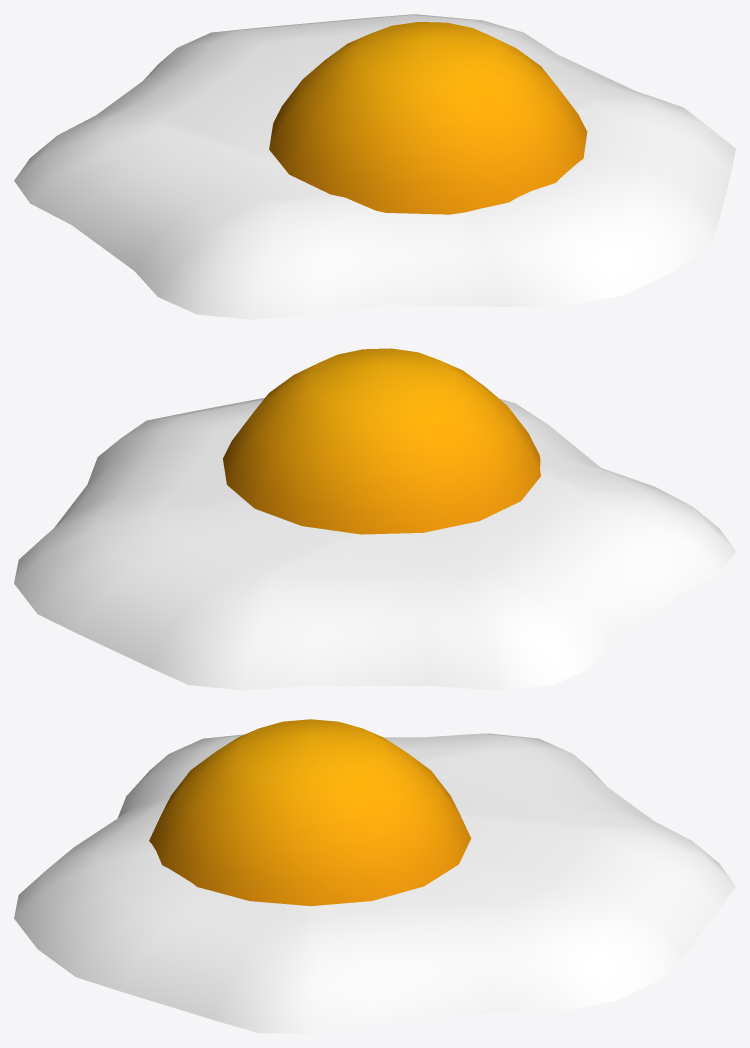
Rendered from Egg_V1_02.fbx.
3 views of the same model, one above another, from view 1: azimuth 30°, elevation 25°; view 2: azimuth 150°, elevation 25°; view 3: azimuth 270°, elevation 25° (orthographic).
Parts seen in each view (by area): view 1: Egg_V1_02; view 2: Egg_V1_02; view 3: Egg_V1_02.
Part boxes in pixels (x1,y1,x2,y2): Egg_V1_02: [14, 14, 735, 319]; Egg_V1_02: [14, 348, 735, 690]; Egg_V1_02: [14, 719, 735, 1033].
Bounding box in the file's own units: 32.05 × 8.29 × 34.16.
